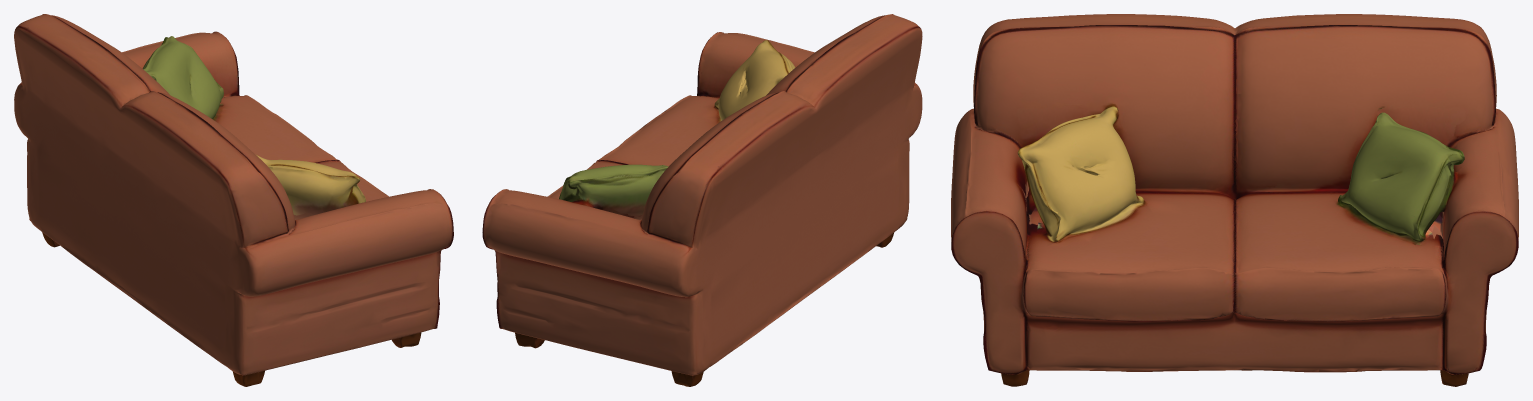
Rendered from sofa+3d+model.fbx.
3 renders of one model, left to right at view 1: azimuth 30°, elevation 25°; view 2: azimuth 150°, elevation 25°; view 3: azimuth 270°, elevation 25°, orthographic. The views are drawn at different scales.
Visible parts, largest first — view 1: tripo_node_55a511b4; view 2: tripo_node_55a511b4; view 3: tripo_node_55a511b4.
Boxes of the visible parts, x1,y1,x2,y2 form: tripo_node_55a511b4: [14, 14, 453, 386]; tripo_node_55a511b4: [482, 14, 922, 386]; tripo_node_55a511b4: [951, 14, 1518, 386].
Bounding box in the file's own units: 0.5278 × 0.5226 × 1.
1 material, 1 textured.
